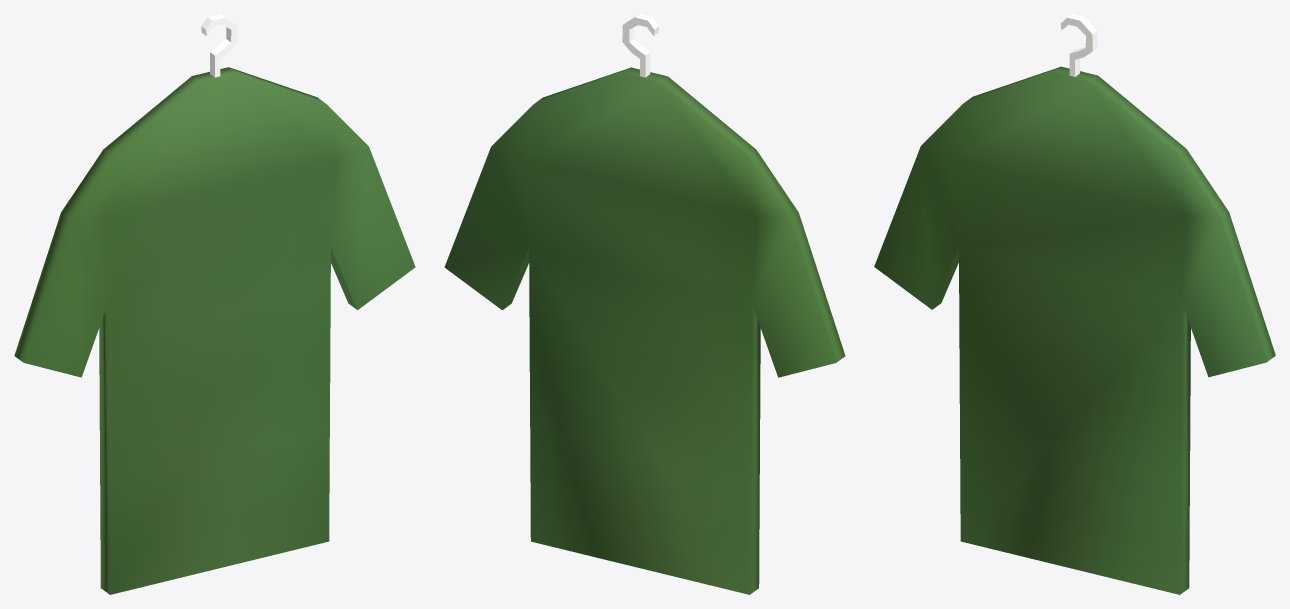
Rendered from ClothingHangerWhiteShirtGreen.glb.
3 renders of one model, left to right at view 1: azimuth 30°, elevation 25°; view 2: azimuth 150°, elevation 25°; view 3: azimuth 330°, elevation 25°, orthographic.
Visible parts, largest first — view 1: ClothingHangerWhiteShirtGreen; view 2: ClothingHangerWhiteShirtGreen; view 3: ClothingHangerWhiteShirtGreen.
Part boxes in pixels (bbox=[...]): ClothingHangerWhiteShirtGreen: bbox=[14, 14, 415, 594]; ClothingHangerWhiteShirtGreen: bbox=[444, 14, 845, 594]; ClothingHangerWhiteShirtGreen: bbox=[874, 14, 1275, 594].
Bounding box in the file's own units: 0.76 × 1.01 × 0.0315.
Materials: 1 (1 with a texture image).
